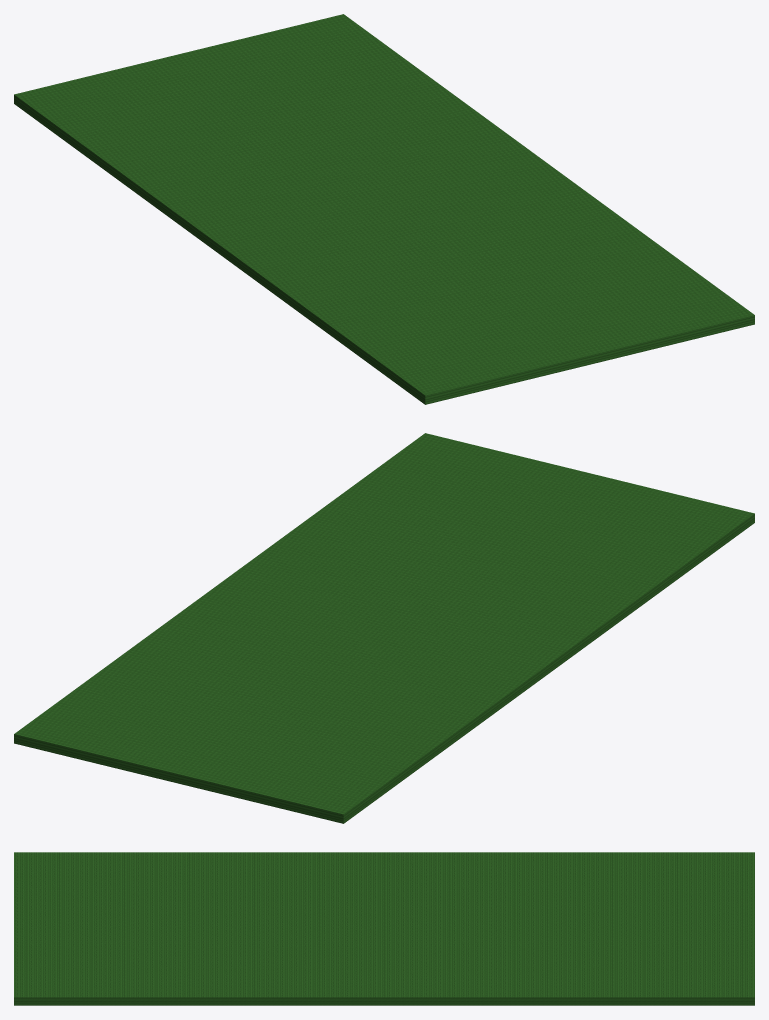
The model's file is DesGr2.glb.
3 views of the same model, one above another, from view 1: azimuth 30°, elevation 25°; view 2: azimuth 150°, elevation 25°; view 3: azimuth 270°, elevation 25° (orthographic). The views are drawn at different scales.
Parts seen in each view (by area): view 1: DesGr2; view 2: DesGr2; view 3: DesGr2.
Boxes of the visible parts, x1,y1,x2,y2 form: DesGr2: [14, 14, 754, 404]; DesGr2: [14, 433, 754, 823]; DesGr2: [14, 852, 754, 1005].
Bounding box in the file's own units: 9446 × 256 × 20410.
1 material, 1 textured.
